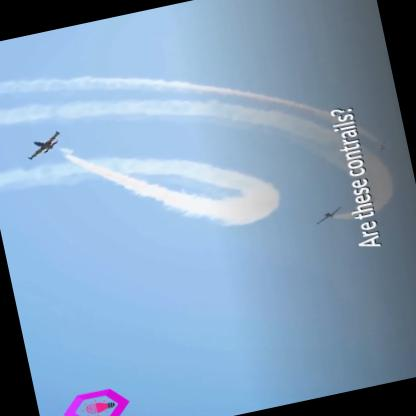plane: (12, 125, 74, 170), (307, 199, 354, 228)
